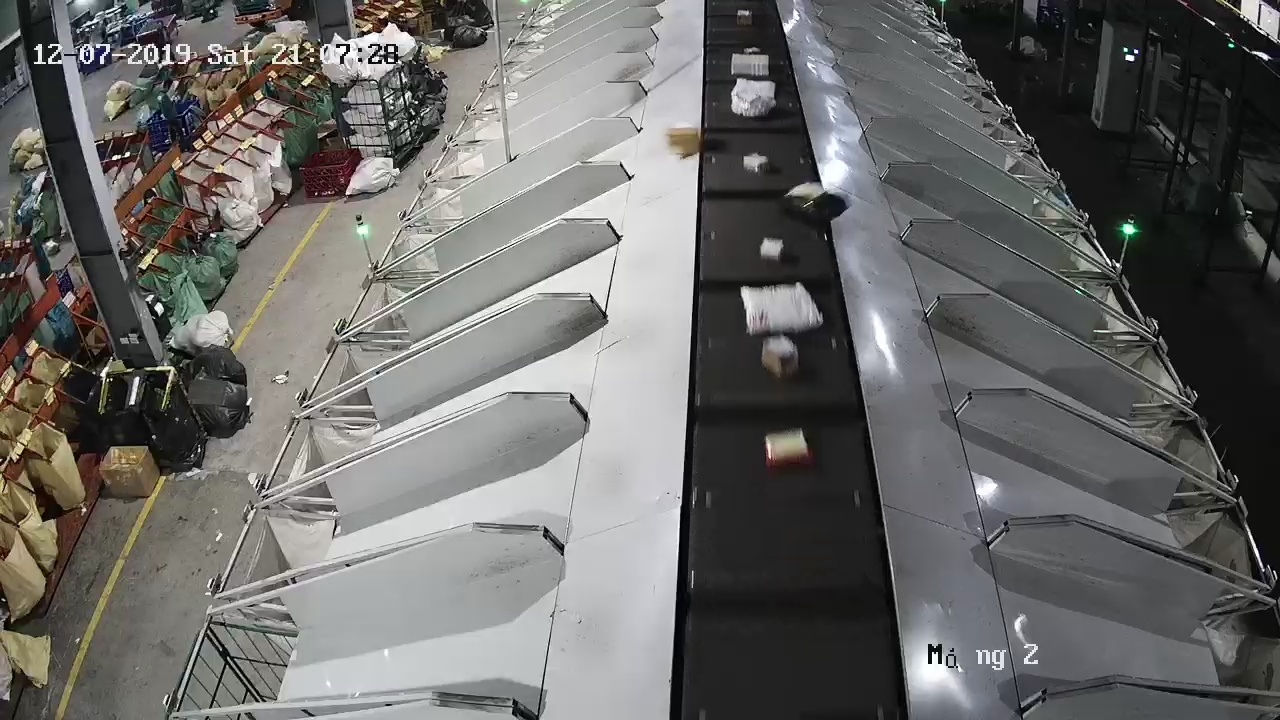parcel: (777, 178, 849, 223), (664, 125, 700, 156)
